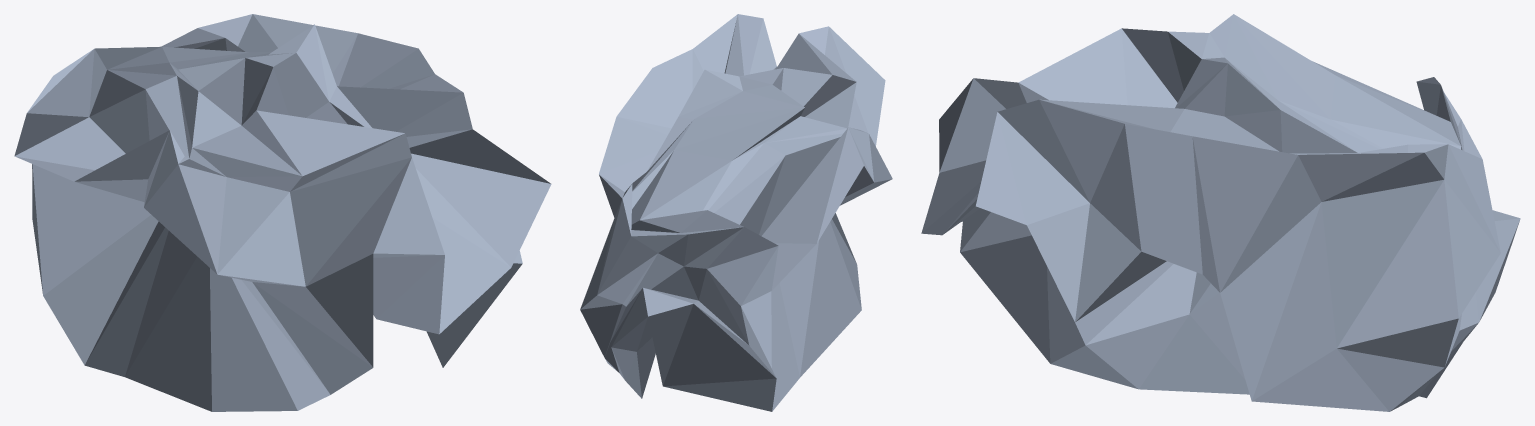
The model's file is reconstruction.obj.
The picture shows the model from 3 angles, left to right: view 1: azimuth 30°, elevation 25°; view 2: azimuth 150°, elevation 25°; view 3: azimuth 270°, elevation 25°; orthographic projection. The views are drawn at different scales.
Bounding box in the file's own units: 0.6044 × 0.6421 × 1.
